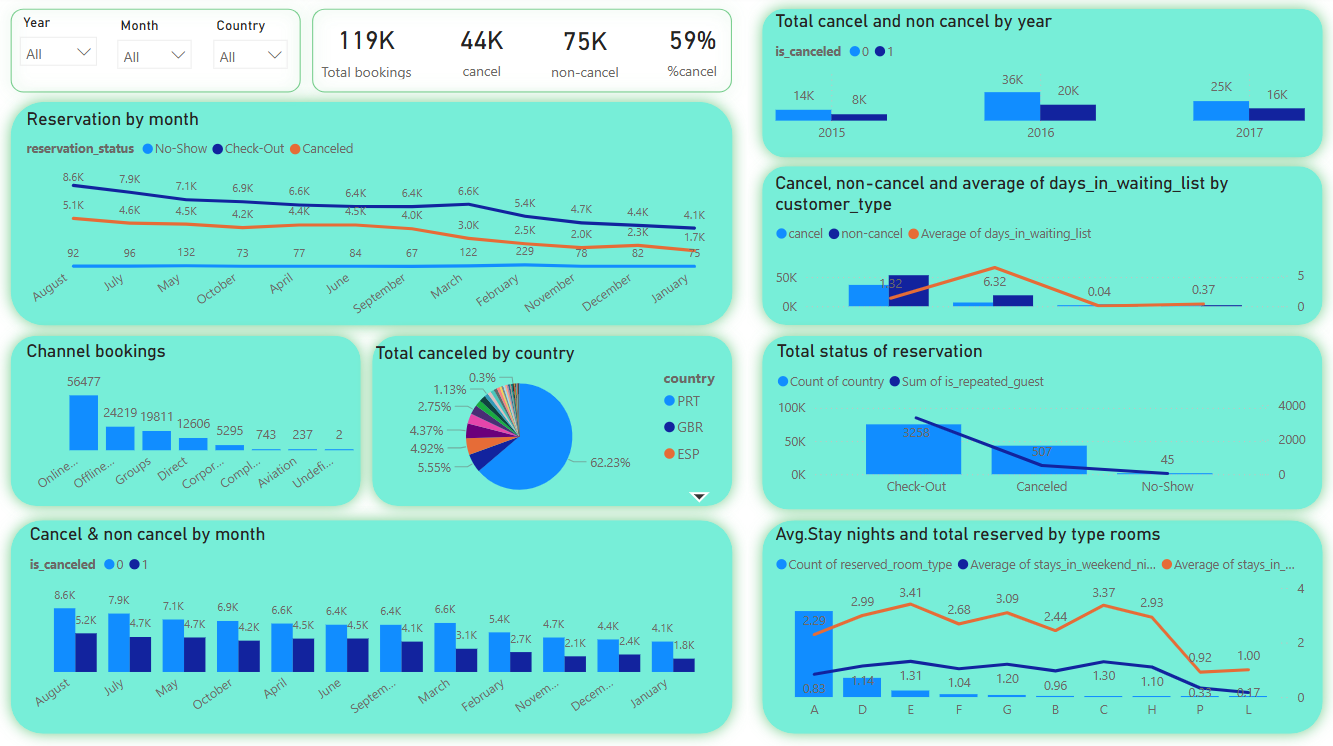

What the dashboard file says about the page in this screenshot:
{"tool":"powerbi","page":{"name":"Page 2","canvas":[1280,720],"ordinal":1},"visuals":[{"type":"shape","box":[287.9,0,429.5,108.2],"z":0},{"type":"card","fields":{"Values":["hotel_bookings.%cancel/non cancel"]},"box":[611.2,19.8,106.2,67.7],"z":0,"group":"g1"},{"type":"shape","box":[717.4,311.8,563.1,194.1],"z":0,"group":"g2"},{"type":"card","fields":{"Values":["hotel_bookings.cancel"]},"box":[415.7,19.8,97,66.6],"z":1000,"group":"g1"},{"type":"shape","box":[0,89.1,717.4,241.8],"z":1000},{"type":"card","fields":{"Values":["hotel_bookings.non-cancel"]},"box":[509.1,20.3,107.7,66.5],"z":2000,"group":"g1"},{"type":"shape","box":[0,311.8,362.7,190.9],"z":2000},{"type":"card","fields":{"Values":["CountNonNull(hotel_bookings.is_canceled)"]},"box":[287.9,19.1,130.7,67.7],"z":3000,"group":"g1"},{"type":"shape","box":[345.2,311.8,372.2,190.9],"z":3000},{"type":"shape","box":[0,488.3,717.4,232.2],"z":4000},{"type":"shape","box":[717.4,0,563.1,170.2],"z":5000},{"type":"shape","box":[717.4,151.1,563.1,179.7],"z":6000},{"type":"slicer","fields":{"Values":["hotel_bookings.arrival_date_year"]},"box":[12.7,14.3,93.6,77.9],"z":7000,"group":"g4"},{"type":"clusteredColumnChart","title":"Cancel & non cancel by month","fields":{"Category":["hotel_bookings.arrival_date_month"],"Y":["CountNonNull(hotel_bookings.is_canceled)"],"Series":["hotel_bookings.is_canceled"]},"box":[27,505.8,666.5,195.6],"z":7000},{"type":"clusteredColumnChart","title":"Total cancel and non cancel by year","fields":{"Category":["hotel_bookings.arrival_date_year"],"Series":["hotel_bookings.is_canceled"],"Y":["CountNonNull(hotel_bookings.is_canceled)"]},"box":[739.6,15.9,515.4,135.2],"z":8000},{"type":"slicer","fields":{"Values":["hotel_bookings.arrival_date_month"]},"box":[106.3,17.4,90.4,72.7],"z":9000,"group":"g4"},{"type":"lineChart","title":"Reservation by month","fields":{"Category":["hotel_bookings.arrival_date_month"],"Y":["CountNonNull(hotel_bookings.reservation_status)"],"Series":["hotel_bookings.reservation_status"]},"box":[27,108.2,663.3,206.8],"z":9000},{"type":"lineStackedColumnComboChart","title":"Total status of reservation","fields":{"Category":["hotel_bookings.reservation_status"],"Y":["CountNonNull(hotel_bookings.country)"],"Y2":["Sum(hotel_bookings.is_repeated_guest)"]},"box":[739.7,330.9,515.4,157.5],"z":9000,"group":"g2"},{"type":"columnChart","title":"Channel bookings","fields":{"Category":["hotel_bookings.market_segment"],"Y":["CountNonNull(hotel_bookings.market_segment)"]},"box":[27,330.8,330.8,152.7],"z":10000},{"type":"slicer","fields":{"Values":["hotel_bookings.country"]},"box":[197.1,17.1,90.8,71],"z":11000,"group":"g4"},{"type":"lineClusteredColumnComboChart","title":"Cancel, non-cancel and average of days_in_waiting_list by customer_type","fields":{"Category":["hotel_bookings.customer_type"],"Y2":["Avg(hotel_bookings.days_in_waiting_list)"],"Y":["hotel_bookings.cancel","hotel_bookings.non-cancel"]},"box":[739.6,170.2,515.4,141.6],"z":11000},{"type":"pieChart","title":"Total canceled by country","fields":{"Category":["hotel_bookings.country"],"Y":["Sum(hotel_bookings.is_canceled)"]},"box":[362.7,332.4,342,155.9],"z":12000},{"type":"group","id":"g1","title":"Group 1","box":[287.9,19.1,429.5,68.4],"z":13000},{"type":"shape","box":[717.4,488.3,563.1,232.2],"z":14000},{"type":"lineStackedColumnComboChart","title":"Avg.Stay nights and total reserved by type rooms","fields":{"Y2":["Avg(hotel_bookings.stays_in_weekend_nights)","Avg(hotel_bookings.stays_in_week_nights)"],"Category":["hotel_bookings.reserved_room_type"],"Y":["CountNonNull(hotel_bookings.reserved_room_type)"]},"box":[739.6,505.8,515.4,195.6],"z":15000},{"type":"group","id":"g2","title":"Group 2","box":[717.4,311.8,563.1,194.1],"z":16000},{"type":"shape","box":[0,0,305.4,108.2],"z":17000},{"type":"group","id":"g3","title":"Group 3","box":[12.7,14.3,275.2,77.9],"z":18000},{"type":"group","id":"g4","title":"Group 4","box":[12.7,14.3,275.2,77.9],"z":18001,"group":"g3"}]}

Visuals, with their boxes in screenshot pixels (x1, y1, x2, y2), scaled from the page's 1280x720 canvas onto the 1333x746 screenshot:
shape: l=300, t=0, r=747, b=112
card - hotel_bookings.%cancel/non cancel: l=637, t=21, r=747, b=91
shape: l=747, t=323, r=1332, b=524
card - hotel_bookings.cancel: l=433, t=21, r=534, b=90
shape: l=0, t=92, r=747, b=343
card - hotel_bookings.non-cancel: l=530, t=21, r=642, b=90
shape: l=0, t=323, r=378, b=521
card - CountNonNull(hotel_bookings.is_canceled): l=300, t=20, r=436, b=90
shape: l=359, t=323, r=747, b=521
shape: l=0, t=506, r=747, b=745
shape: l=747, t=0, r=1332, b=176
shape: l=747, t=157, r=1332, b=343
slicer - hotel_bookings.arrival_date_year: l=13, t=15, r=111, b=96
"Cancel & non cancel by month" clusteredColumnChart: l=28, t=524, r=722, b=727
"Total cancel and non cancel by year" clusteredColumnChart: l=770, t=16, r=1307, b=157
slicer - hotel_bookings.arrival_date_month: l=111, t=18, r=205, b=93
"Reservation by month" lineChart: l=28, t=112, r=719, b=326
"Total status of reservation" lineStackedColumnComboChart: l=770, t=343, r=1307, b=506
"Channel bookings" columnChart: l=28, t=343, r=373, b=501
slicer - hotel_bookings.country: l=205, t=18, r=300, b=91
"Cancel, non-cancel and average of days_in_waiting_list by customer_type" lineClusteredColumnComboChart: l=770, t=176, r=1307, b=323
"Total canceled by country" pieChart: l=378, t=344, r=734, b=506
"Group 1" group: l=300, t=20, r=747, b=91
shape: l=747, t=506, r=1332, b=745
"Avg.Stay nights and total reserved by type rooms" lineStackedColumnComboChart: l=770, t=524, r=1307, b=727
"Group 2" group: l=747, t=323, r=1332, b=524
shape: l=0, t=0, r=318, b=112
"Group 3" group: l=13, t=15, r=300, b=96
"Group 4" group: l=13, t=15, r=300, b=96
